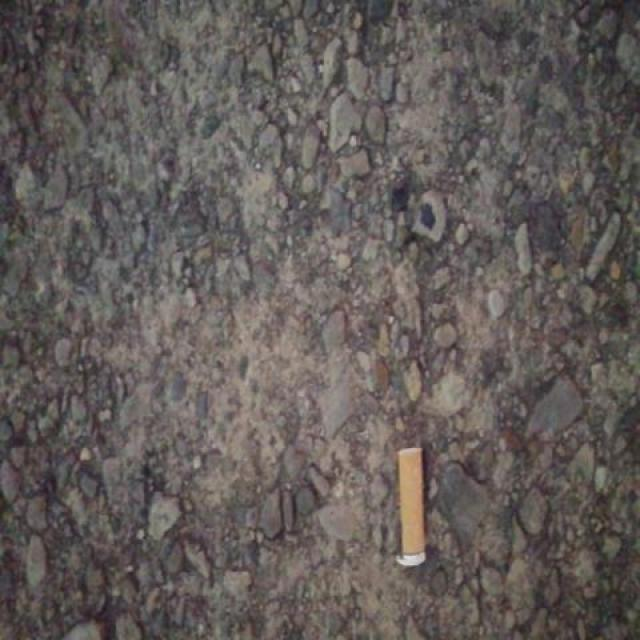non-organic waste: (393, 442, 430, 570)
